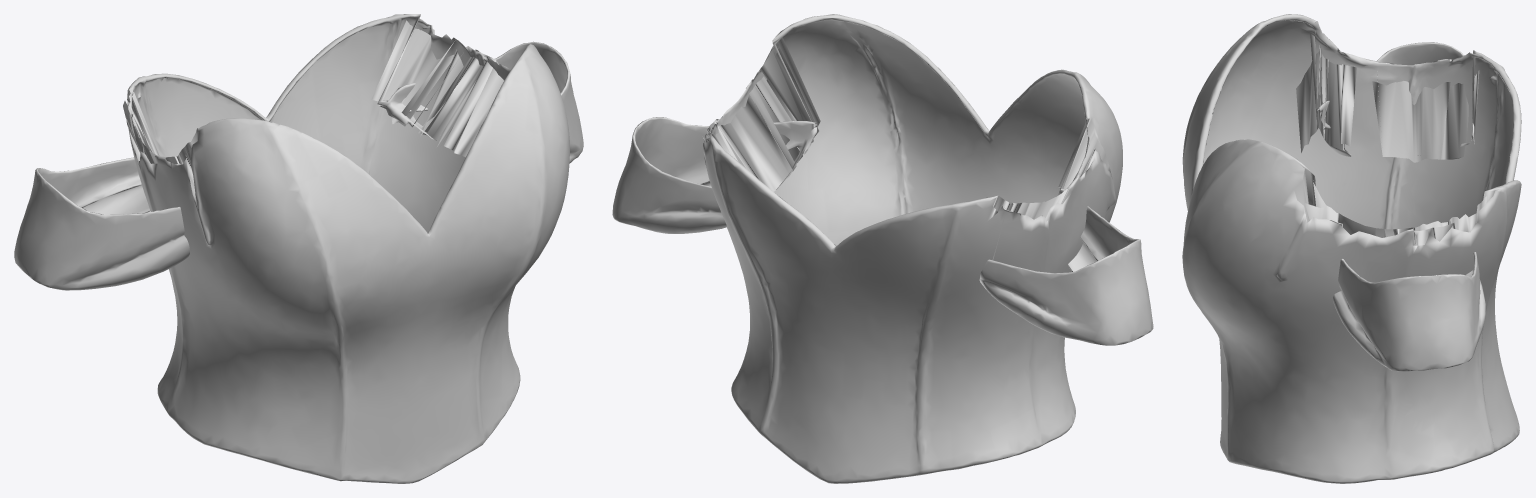
The model's file is Funko Girl T-Shirt2.glb.
3 views of the same model, side by side, from view 1: azimuth 30°, elevation 25°; view 2: azimuth 150°, elevation 25°; view 3: azimuth 270°, elevation 25° (orthographic). The views are drawn at different scales.
Parts seen in each view (by area): view 1: geometry_0.002; view 2: geometry_0.002; view 3: geometry_0.002.
Boxes of the visible parts, box(x1,y1,x2,y2) form: geometry_0.002: box(14, 14, 583, 483); geometry_0.002: box(612, 14, 1153, 483); geometry_0.002: box(1182, 14, 1521, 483).
Bounding box in the file's own units: 0.3318 × 0.2181 × 0.1843.
1 material, 1 textured.
